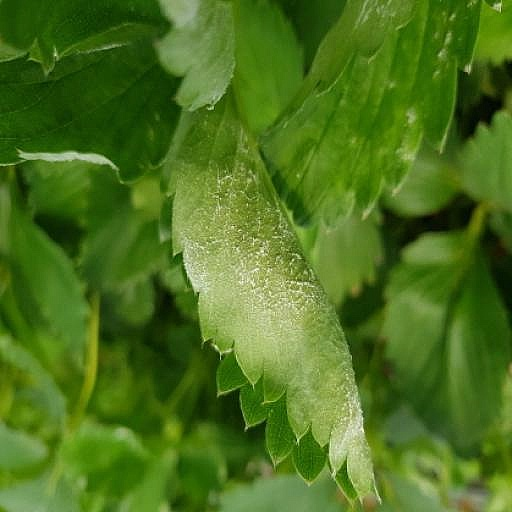Powdery Mildew Leaf: (125, 5, 354, 432), (10, 278, 255, 511), (327, 328, 511, 489)
